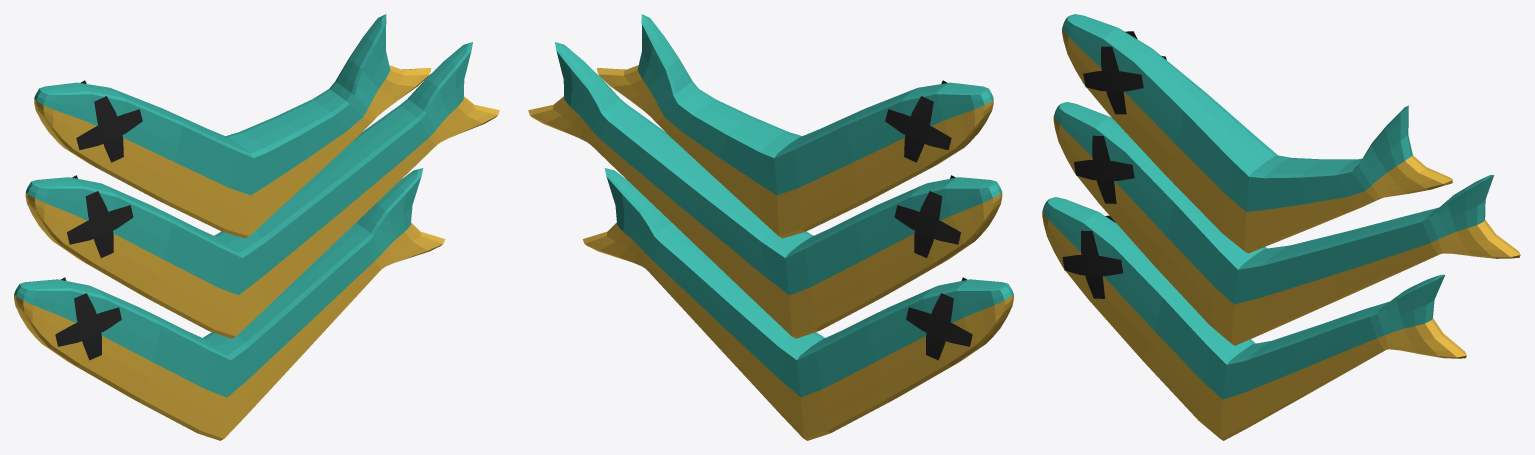
The model's file is Shimesaba.glb.
3 renders of one model, left to right at view 1: azimuth 30°, elevation 25°; view 2: azimuth 150°, elevation 25°; view 3: azimuth 330°, elevation 25°, orthographic.
Visible parts, largest first — view 1: FoodIngredient_Shimesaba; view 2: FoodIngredient_Shimesaba; view 3: FoodIngredient_Shimesaba.
Boxes of the visible parts, left/top/right/bottom form: FoodIngredient_Shimesaba: left=14, top=14, right=499, bottom=440; FoodIngredient_Shimesaba: left=528, top=14, right=1013, bottom=440; FoodIngredient_Shimesaba: left=1042, top=14, right=1520, bottom=440.
Bounding box in the file's own units: 0.771 × 0.5849 × 0.0817.
1 material, 1 textured.
